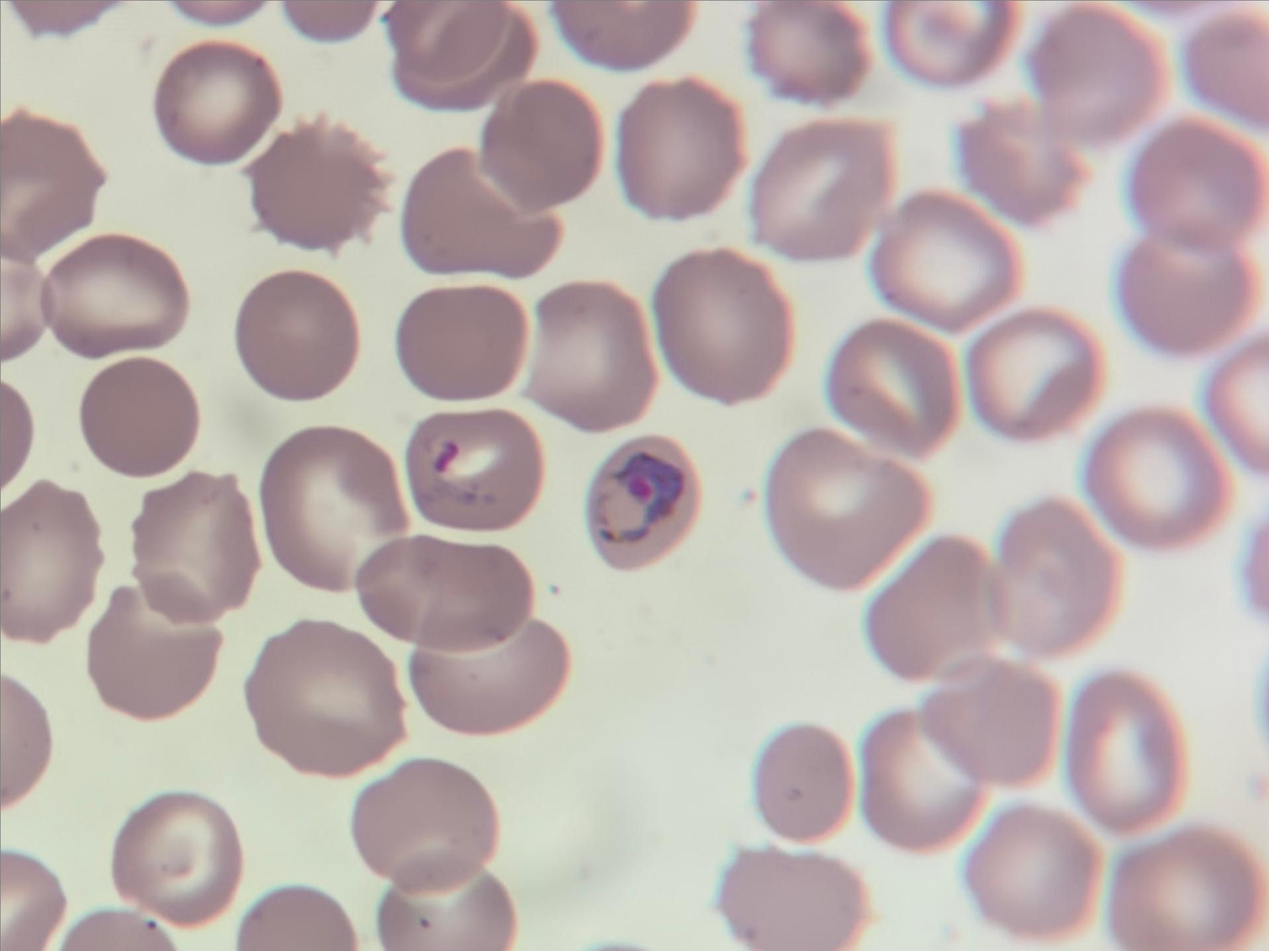Infected: (586, 437, 695, 574)
Uninfected: (771, 430, 934, 595), (245, 613, 408, 774), (264, 433, 411, 584), (403, 607, 574, 733), (352, 754, 496, 899), (401, 151, 561, 279), (753, 120, 896, 262), (872, 532, 1009, 680), (654, 250, 787, 402), (987, 499, 1122, 646), (875, 192, 1015, 333), (357, 538, 532, 650), (137, 472, 261, 628), (1119, 214, 1250, 361), (1071, 670, 1190, 830), (916, 648, 1059, 781), (824, 316, 959, 455), (1091, 410, 1232, 543), (40, 234, 188, 359), (956, 93, 1096, 224), (535, 283, 659, 430), (84, 578, 209, 721), (1102, 836, 1254, 951), (410, 406, 541, 536), (1031, 7, 1163, 135), (967, 307, 1100, 434), (256, 120, 383, 252), (1130, 115, 1256, 248), (866, 708, 984, 850), (623, 78, 743, 217), (967, 811, 1104, 932), (0, 483, 104, 640), (112, 794, 239, 922), (397, 285, 529, 402), (720, 851, 872, 951), (485, 80, 602, 209), (240, 274, 357, 402), (159, 45, 279, 167), (375, 847, 514, 951), (388, 18, 535, 114), (84, 362, 200, 477), (745, 3, 871, 104), (757, 713, 857, 830), (388, 1, 510, 80)
